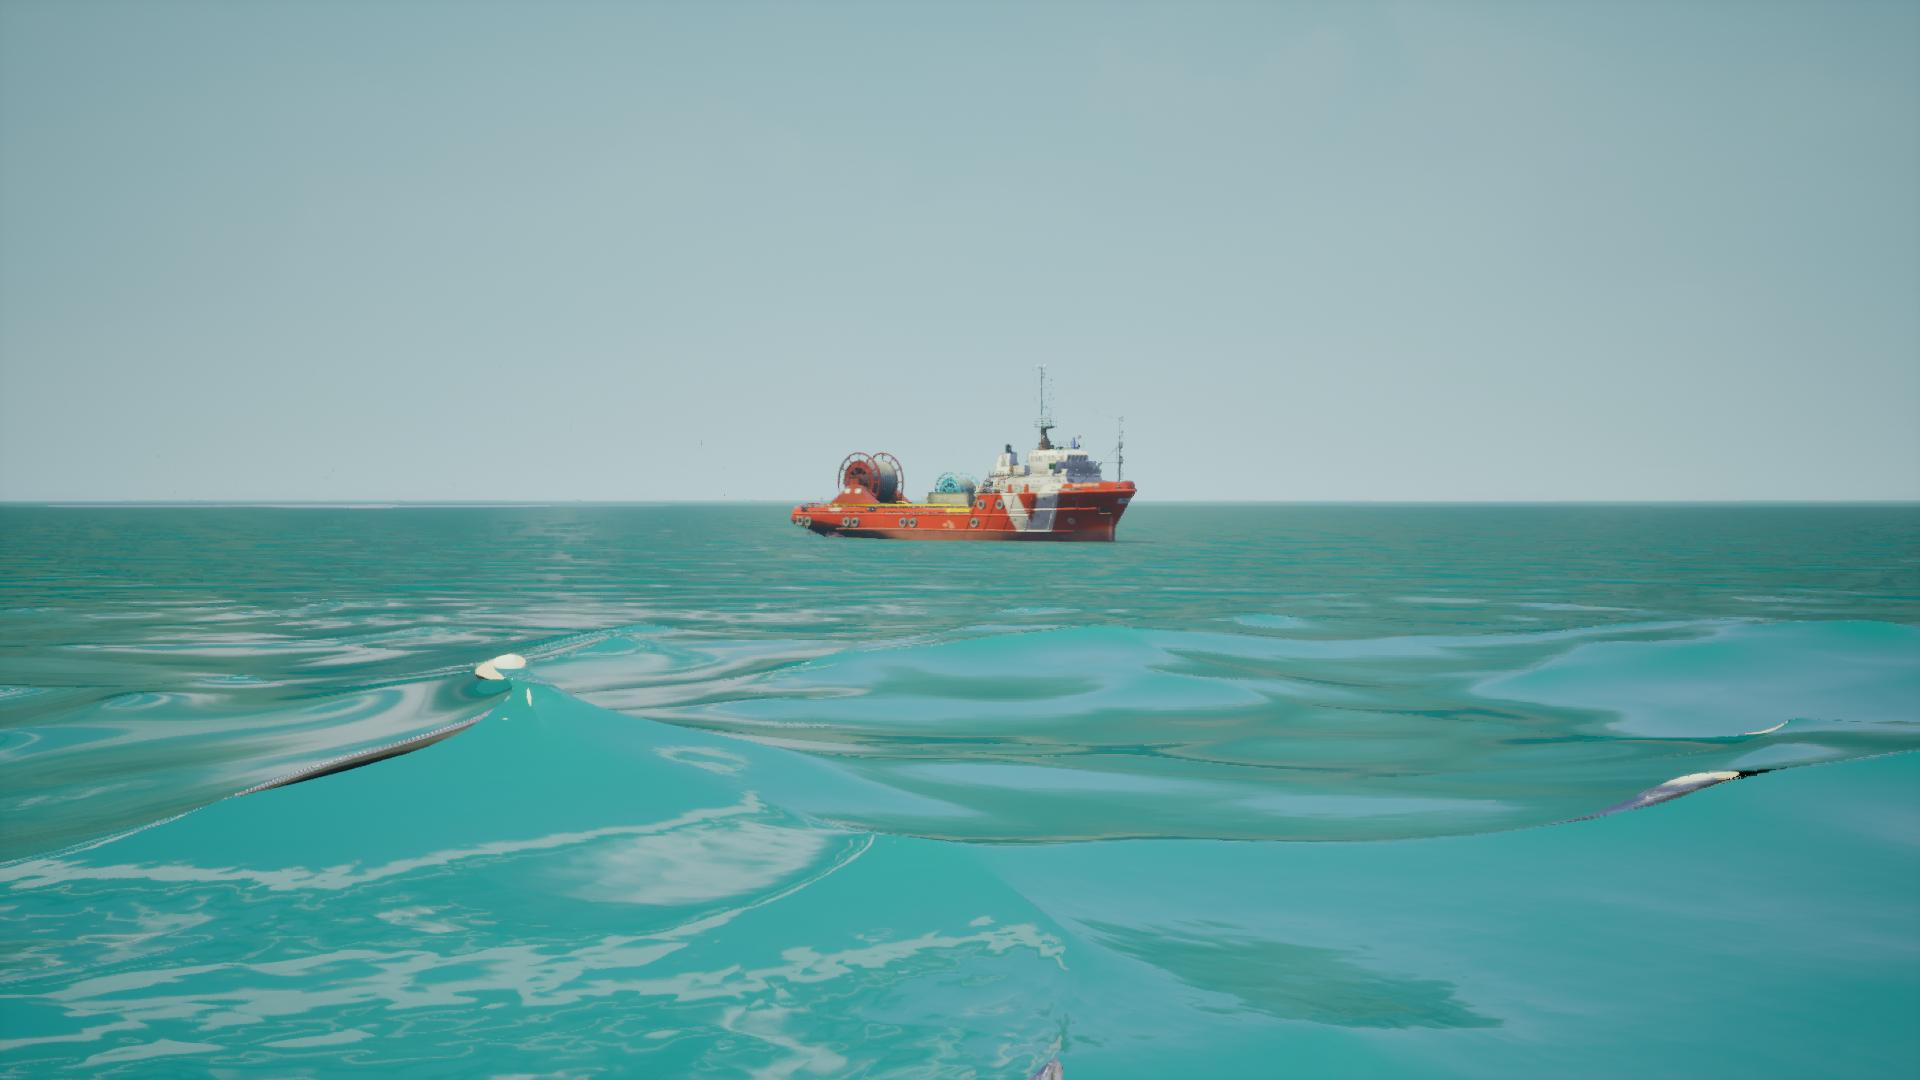Tug Boat: (800, 365, 1135, 545)
